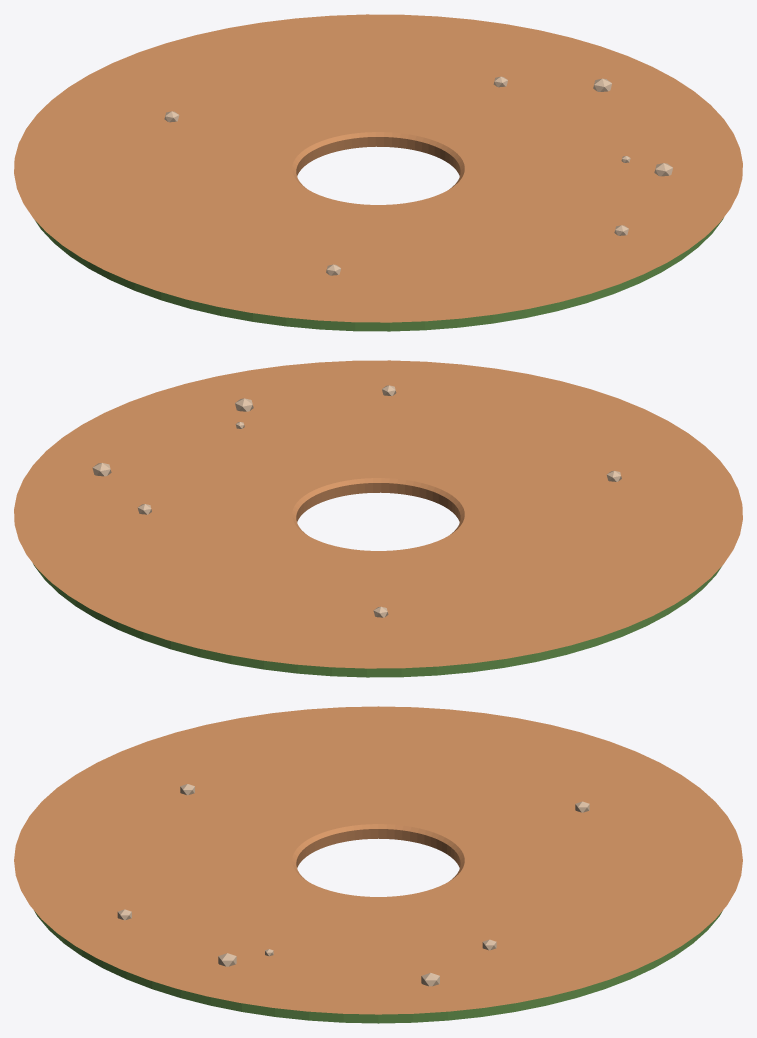
File: goo_jar_deck_2@garden.fbx
3 views of the same model, one above another, from view 1: azimuth 30°, elevation 25°; view 2: azimuth 150°, elevation 25°; view 3: azimuth 270°, elevation 25° (orthographic).
Visible parts, largest first — view 1: goo_jar_deck_2; view 2: goo_jar_deck_2; view 3: goo_jar_deck_2.
Boxes of the visible parts, x1,y1,x2,y2 form: goo_jar_deck_2: [14, 14, 742, 331]; goo_jar_deck_2: [14, 360, 742, 677]; goo_jar_deck_2: [14, 706, 742, 1023].
Bounding box in the file's own units: 53.2 × 1.84 × 53.2.
